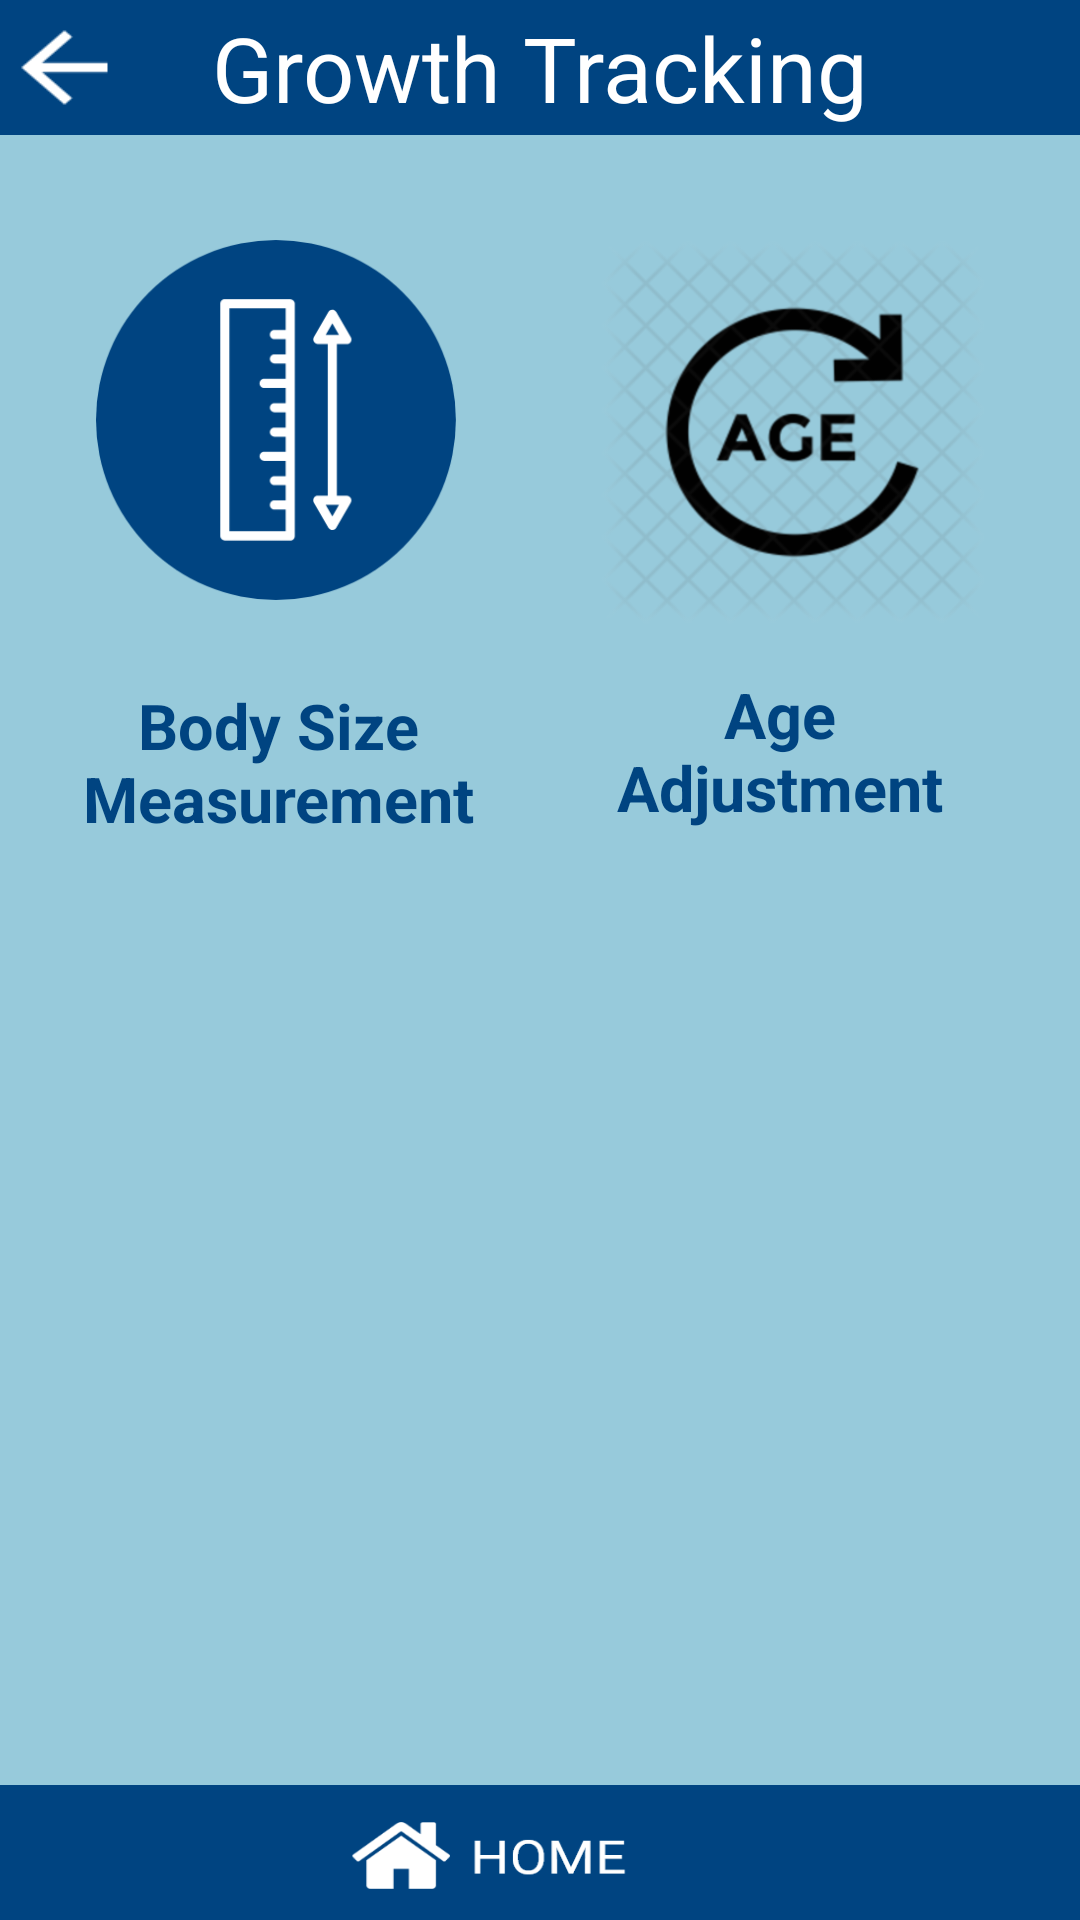

Locate icon controls on the screen. Image size 1080*1920, boxes as (x1, y1, x2, y2).
back: (21, 30, 108, 105)
lenght: (96, 240, 456, 600)
